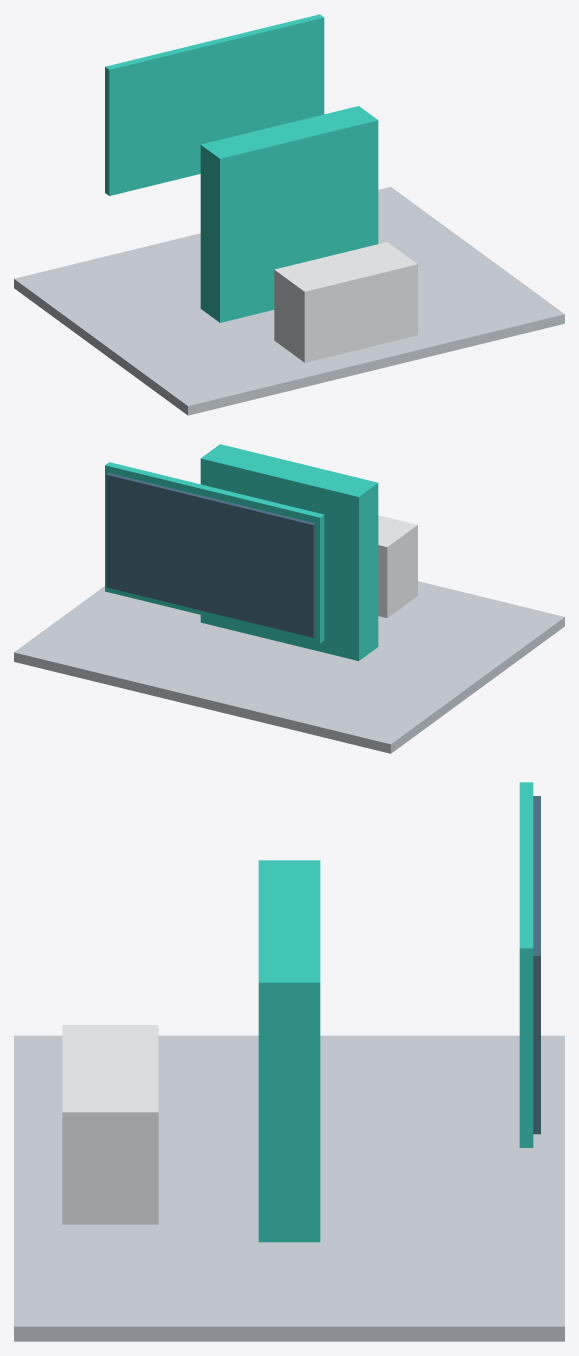
The picture shows the model from 3 angles, top to bottom: view 1: azimuth 30°, elevation 25°; view 2: azimuth 150°, elevation 25°; view 3: azimuth 270°, elevation 25°; orthographic projection. The views are drawn at different scales.
Visible parts, largest first — view 1: Exhibition Booth Concept; view 2: Exhibition Booth Concept; view 3: Exhibition Booth Concept.
Part boxes in pixels (x1,y1,x2,y2): Exhibition Booth Concept: [14, 14, 564, 415]; Exhibition Booth Concept: [14, 444, 564, 753]; Exhibition Booth Concept: [14, 782, 564, 1341].
Size of the model in its own units: 5 by 2.65 by 4.
